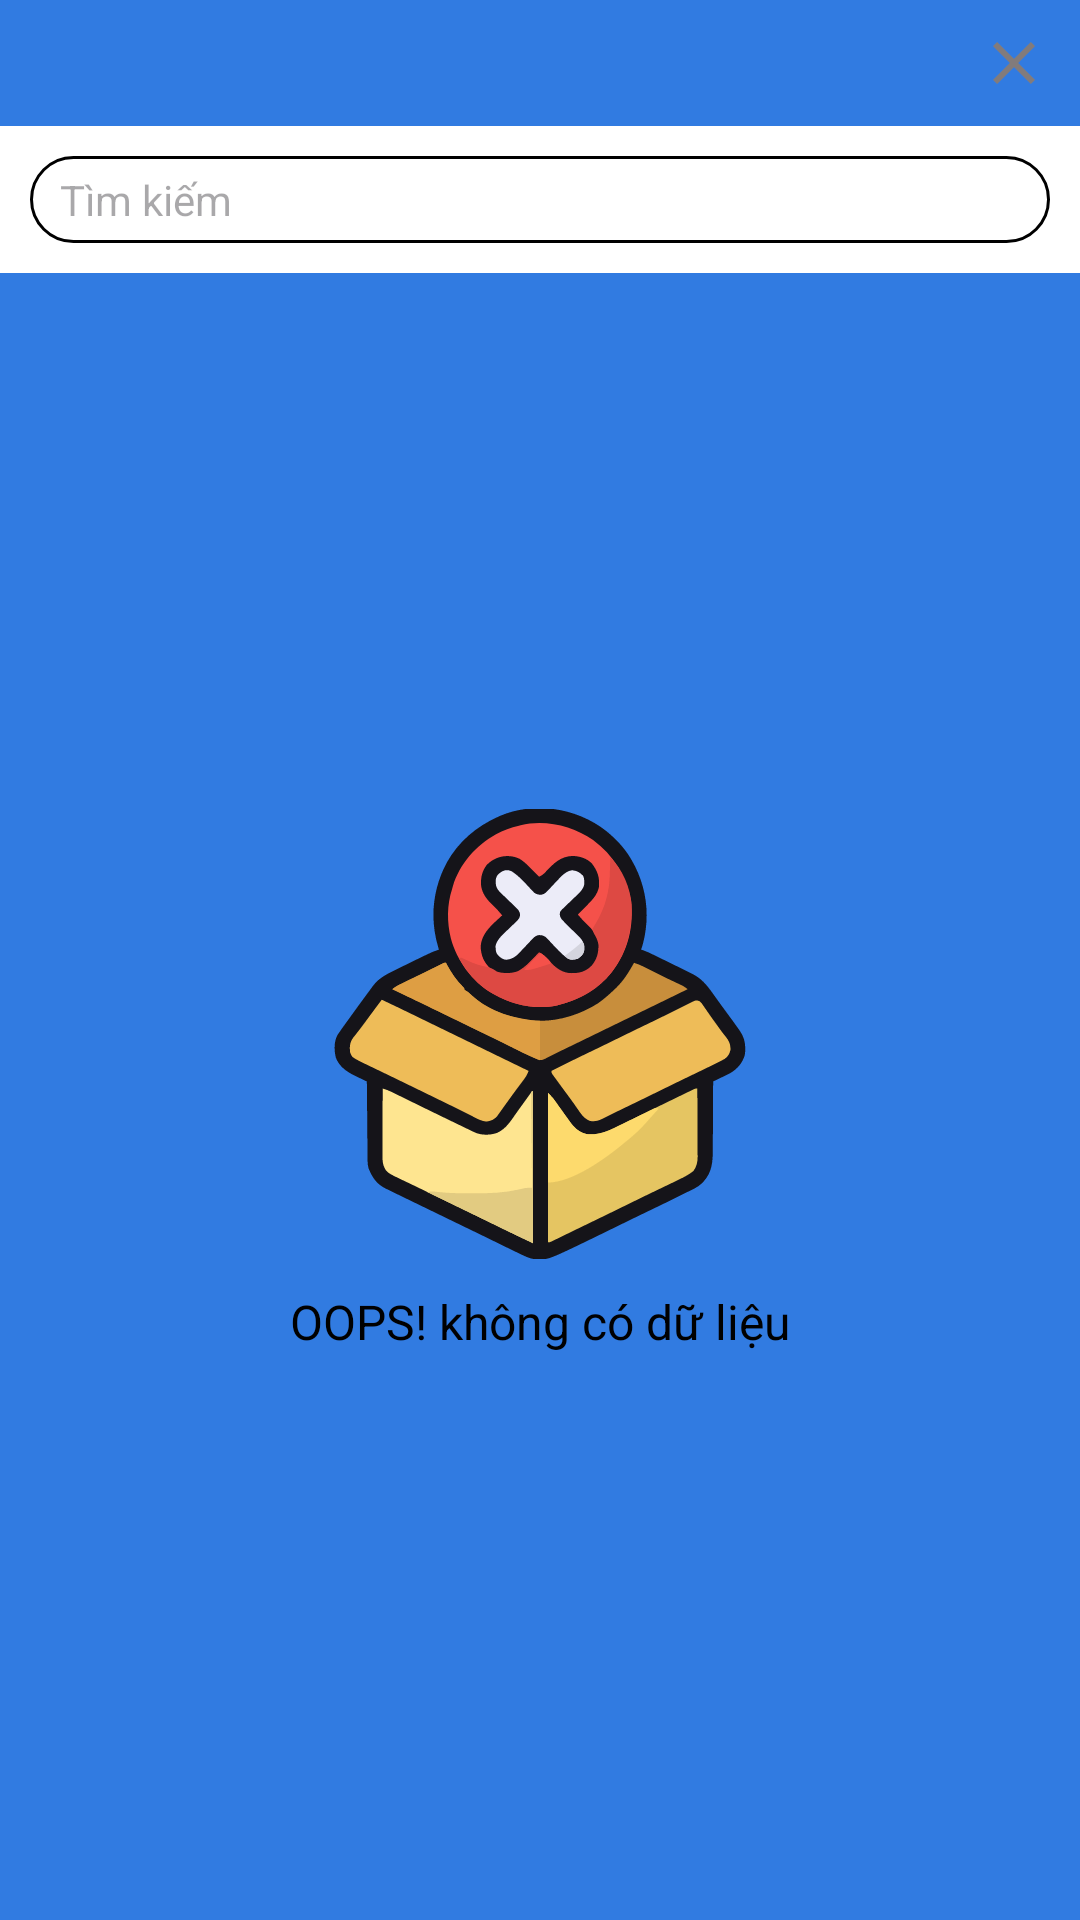

Icon click points for this 1080×1920 phone screenshot, format (x=x, y=y):
close: (x=1014, y=63)
